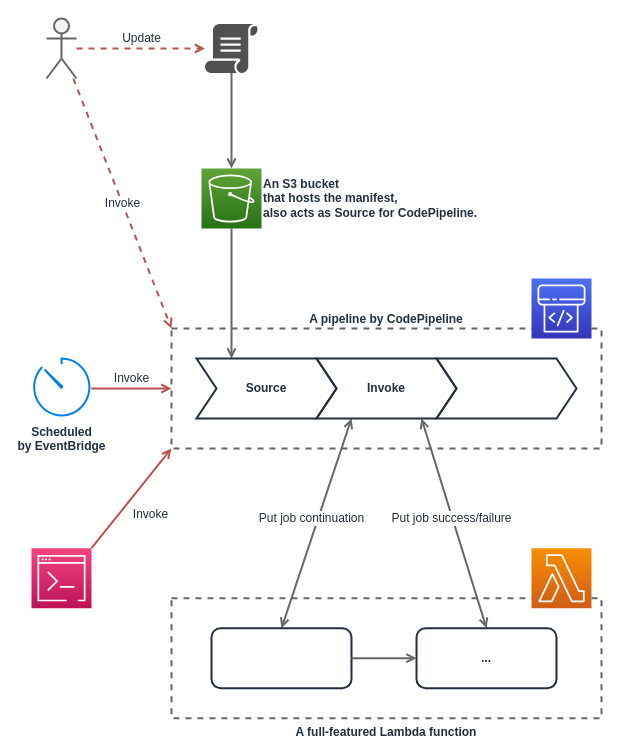
Image size: 619x756. Some labels were removed from this diagram. The centre of each missing label's shape, as x and y in pixels:
A manifest that declares On or Off task.: point (231, 48)
An inner function that processes an individual block: point (281, 658)
CLI Programmatic: point (61, 577)
Finish: point (506, 388)
